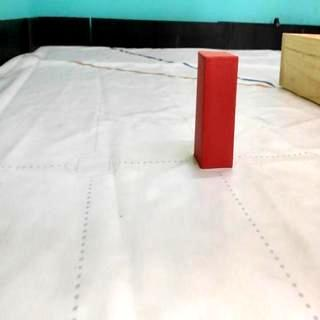redbox: (194, 49, 238, 170)
